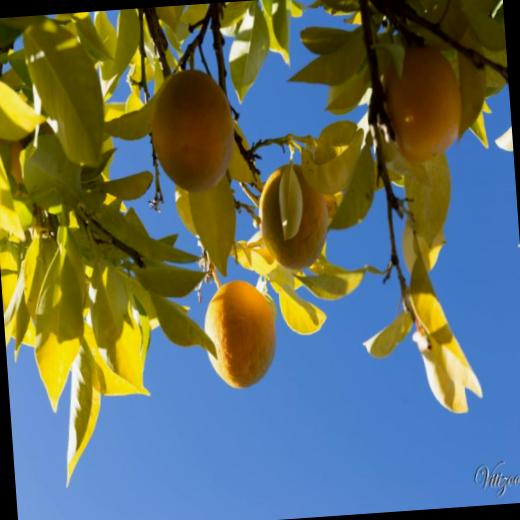Grape: (195, 269, 283, 388), (150, 65, 231, 190), (390, 40, 468, 162), (256, 167, 326, 261)
